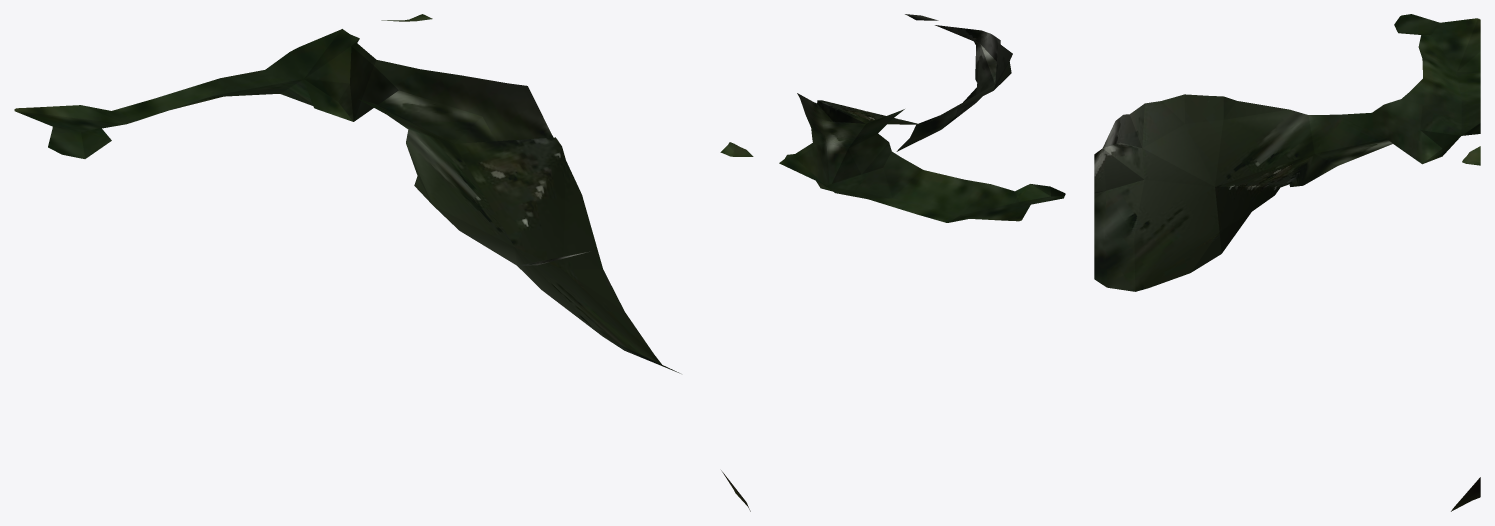
The picture shows the model from 3 angles, left to right: view 1: azimuth 30°, elevation 25°; view 2: azimuth 150°, elevation 25°; view 3: azimuth 270°, elevation 25°; orthographic projection. The views are drawn at different scales.
Size of the model in its own units: 0.7601 by 0.8373 by 0.8374.
Materials: 2 (2 with a texture image).
